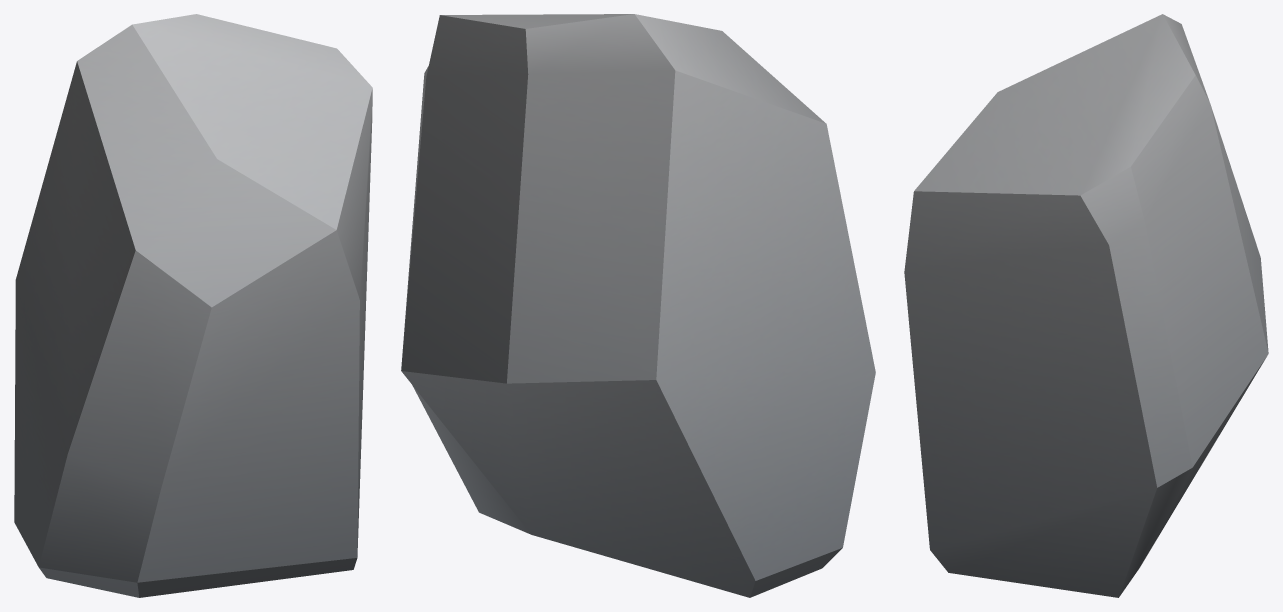
Rendered from rocaCuadrada3.fbx.
The picture shows the model from 3 angles, left to right: view 1: azimuth 30°, elevation 25°; view 2: azimuth 150°, elevation 25°; view 3: azimuth 270°, elevation 25°; orthographic projection. The views are drawn at different scales.
Parts seen in each view (by area): view 1: rocaCuadrada3; view 2: rocaCuadrada3; view 3: rocaCuadrada3.
Part boxes in pixels (x1,y1,x2,y2): rocaCuadrada3: (14,14,372,597); rocaCuadrada3: (401,14,875,597); rocaCuadrada3: (904,14,1268,597).
Bounding box in the file's own units: 207 × 279 × 183.
